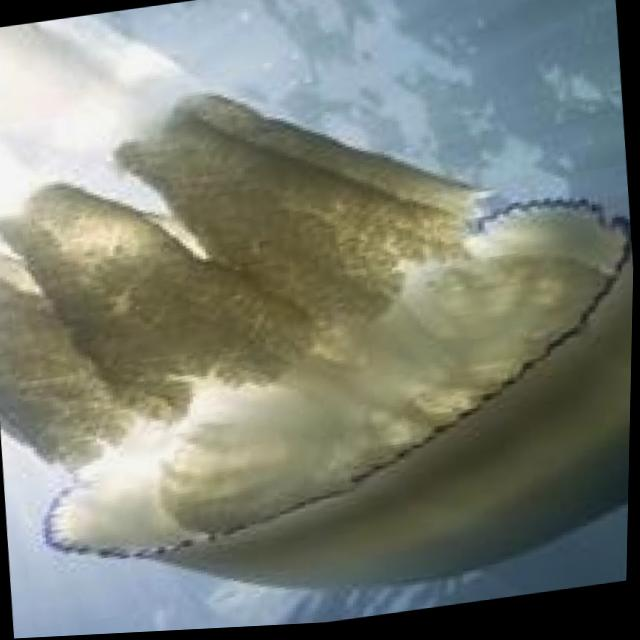Human: (0, 35, 639, 640)
